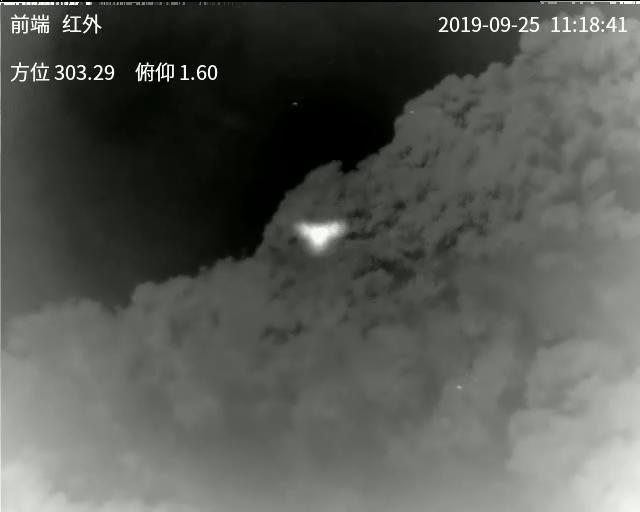uav: (291, 215, 347, 253)
